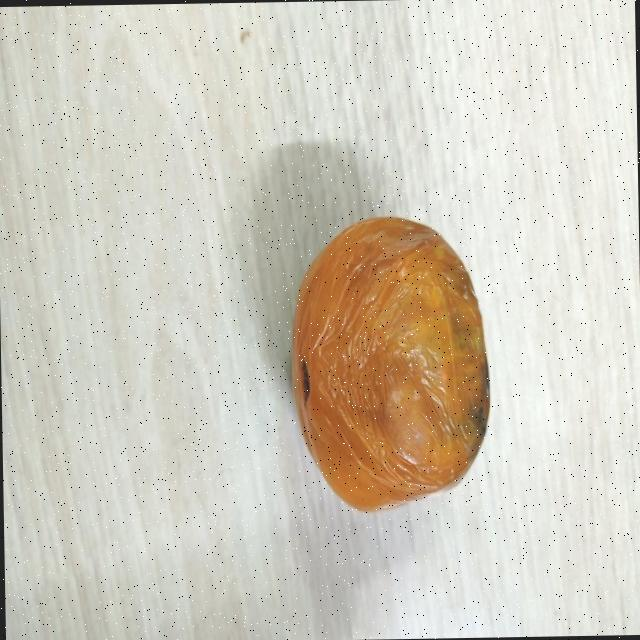Rotten: (290, 214, 492, 515)
